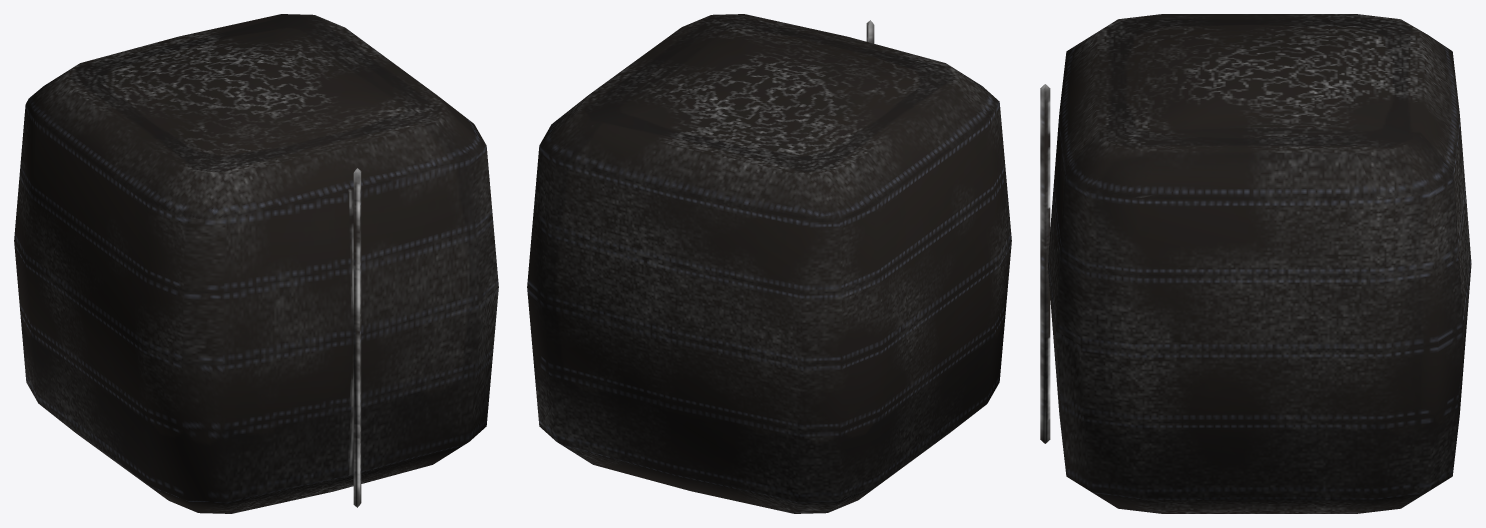
File: Maton_MangaArribaDer.fbx
3 renders of one model, left to right at view 1: azimuth 30°, elevation 25°; view 2: azimuth 150°, elevation 25°; view 3: azimuth 270°, elevation 25°, orthographic. The views are drawn at different scales.
Parts seen in each view (by area): view 1: Maton_MangaArribaDer; view 2: Maton_MangaArribaDer; view 3: Maton_MangaArribaDer.
Boxes of the visible parts, box(x1,y1,x2,y2) form: Maton_MangaArribaDer: box(14, 14, 498, 513); Maton_MangaArribaDer: box(527, 14, 1011, 513); Maton_MangaArribaDer: box(1040, 14, 1471, 513).
Size of the model in its own units: 1.31 by 1.31 by 1.35.
